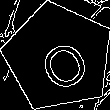O_NW: (27, 24, 90, 90)
